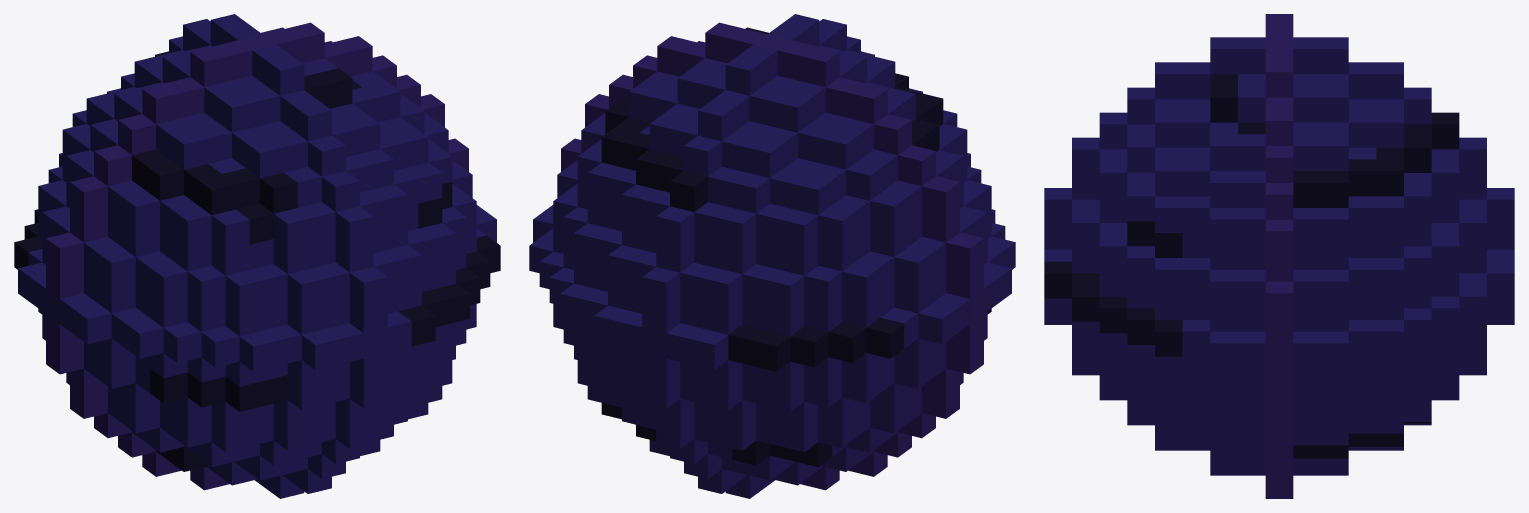
File: humo.obj
3 renders of one model, left to right at view 1: azimuth 30°, elevation 25°; view 2: azimuth 150°, elevation 25°; view 3: azimuth 270°, elevation 25°, orthographic.
Visible parts, largest first — view 1: mesh; view 2: mesh; view 3: mesh.
Boxes of the visible parts, x1=… form: mesh: x1=14, y1=14, x2=500, y2=498; mesh: x1=529, y1=14, x2=1015, y2=498; mesh: x1=1044, y1=14, x2=1514, y2=498.
Bounding box in the file's own units: 1.7 × 1.7 × 1.7.
